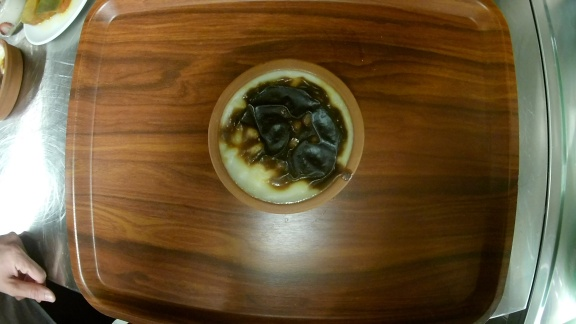sutlac: (208, 57, 364, 213)
